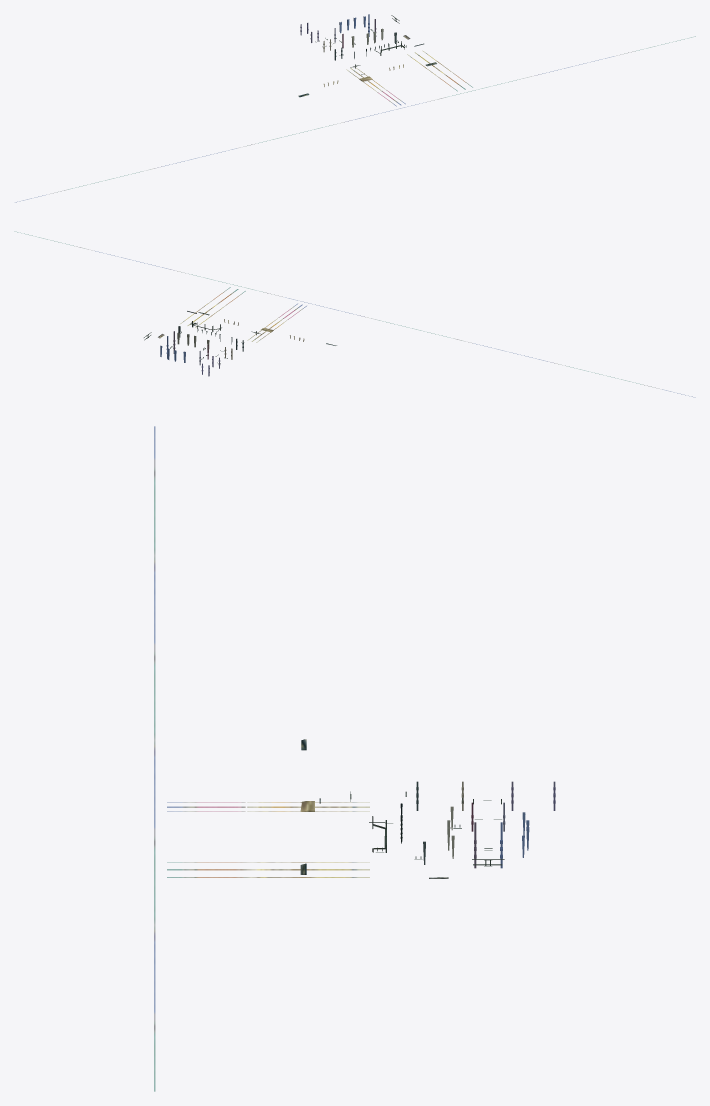
Rendered from POLYGON27FIXCOLLISIONblend.fbx.
The picture shows the model from 3 angles, top to bottom: view 1: azimuth 30°, elevation 25°; view 2: azimuth 150°, elevation 25°; view 3: azimuth 270°, elevation 25°; orthographic projection. The views are drawn at different scales.
Visible parts, largest first — view 1: polygon27; view 2: polygon27; view 3: polygon27.
Part boxes in pixels (bbox=[...]): polygon27: bbox=[15, 14, 695, 202]; polygon27: bbox=[14, 231, 695, 397]; polygon27: bbox=[154, 426, 555, 1091].
Size of the model in its own units: 343524 by 10831 by 87534.
1 material, 1 textured.
